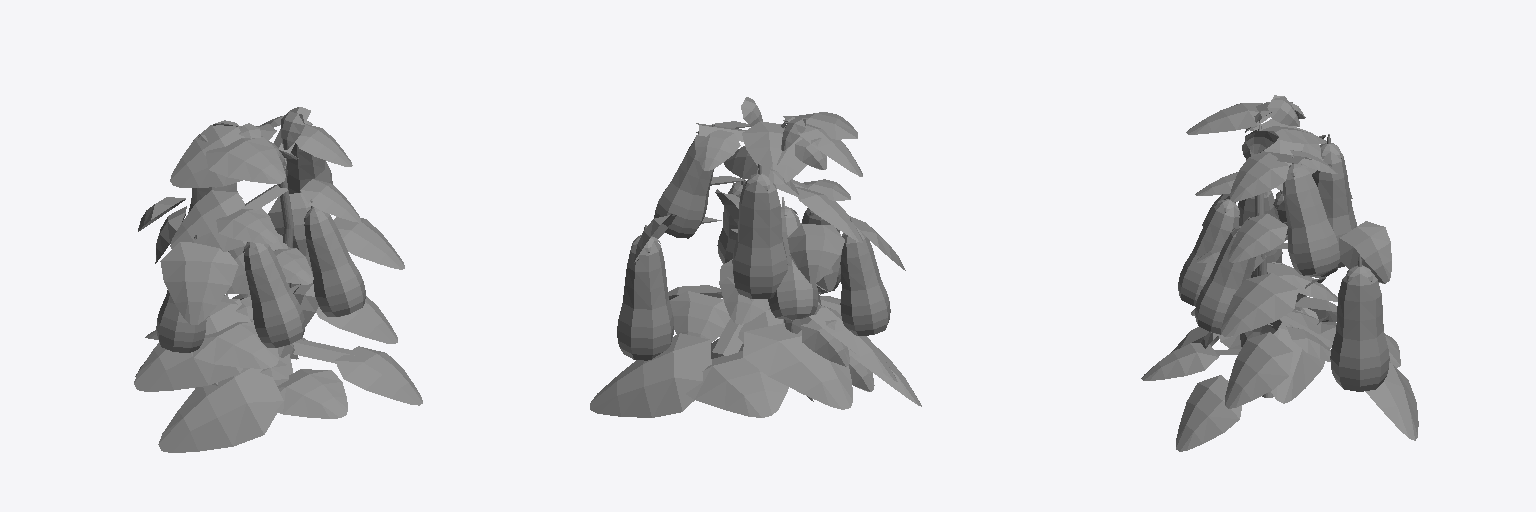
Rendered from qiezie.obj.
3 renders of one model, left to right at view 1: azimuth 30°, elevation 25°; view 2: azimuth 150°, elevation 25°; view 3: azimuth 270°, elevation 25°, orthographic.
Parts seen in each view (by area): view 1: Default_Layer; view 2: Default_Layer; view 3: Default_Layer.
Part boxes in pixels (x1,y1,x2,y2): Default_Layer: (134, 107, 422, 452); Default_Layer: (590, 97, 921, 417); Default_Layer: (1141, 95, 1418, 451).
Bounding box in the file's own units: 224 × 246 × 216.